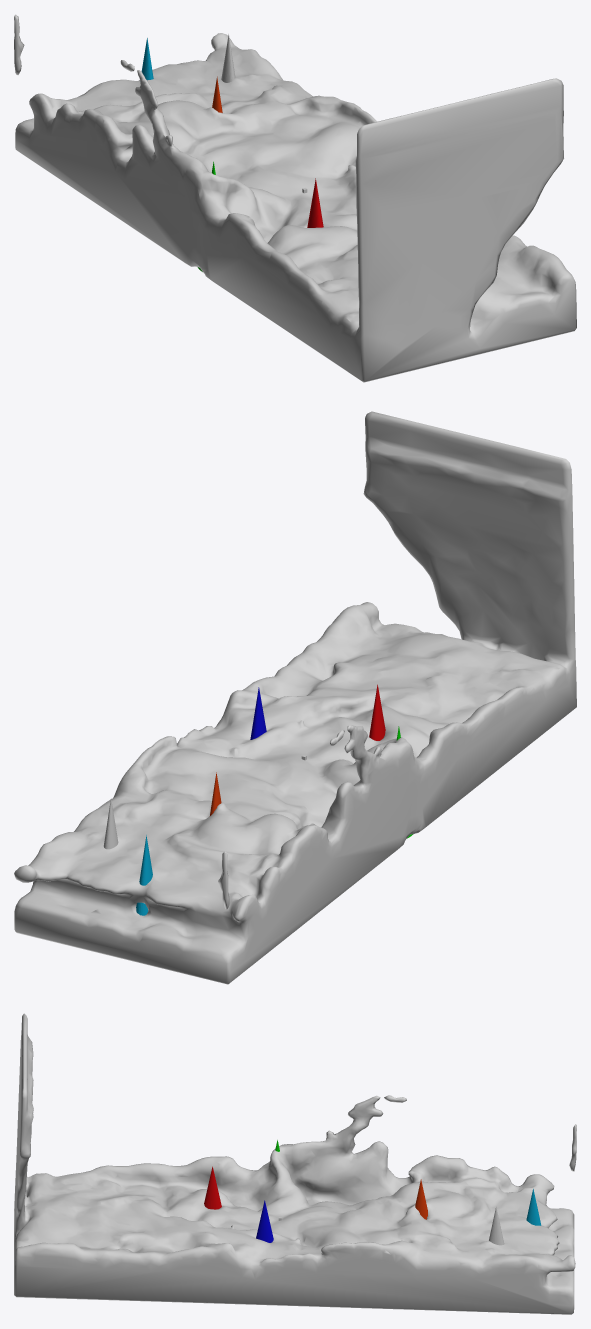
3 views of the same model, one above another, from view 1: azimuth 30°, elevation 25°; view 2: azimuth 150°, elevation 25°; view 3: azimuth 270°, elevation 25° (orthographic). The views are drawn at different scales.
Parts seen in each view (by area): view 1: Liquid_Domain; view 2: Liquid_Domain; view 3: Liquid_Domain, 円錐.001, 円錐.002.
Part boxes in pixels (x1=…): Liquid_Domain: x1=14, y1=14, x2=576, y2=382; Liquid_Domain: x1=14, y1=411, x2=576, y2=984; Liquid_Domain: x1=14, y1=1013, x2=576, y2=1314; 円錐.001: x1=204, y1=1166, x2=221, y2=1209; 円錐.002: x1=256, y1=1200, x2=273, y2=1242.
Bounding box in the file's own units: 129 × 158 × 363.
